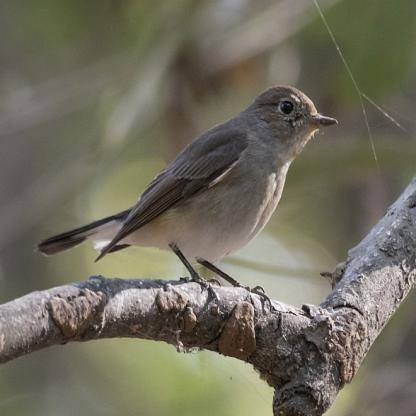Burung: (29, 81, 338, 288)
